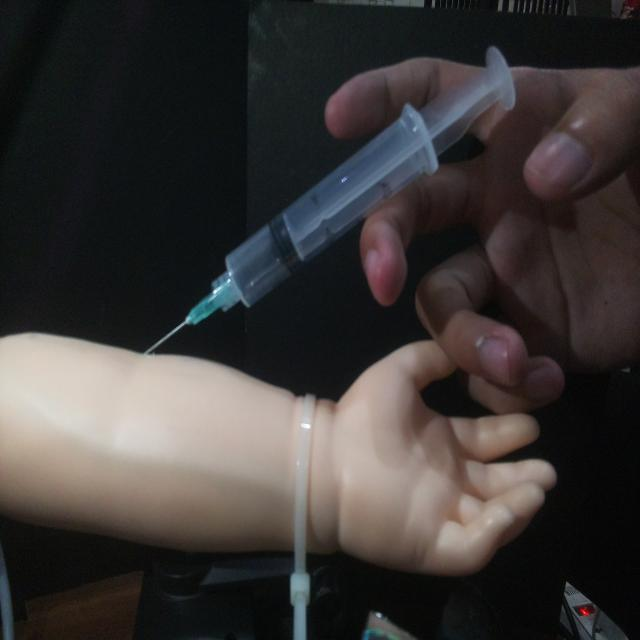29deg: (138, 42, 518, 358)
